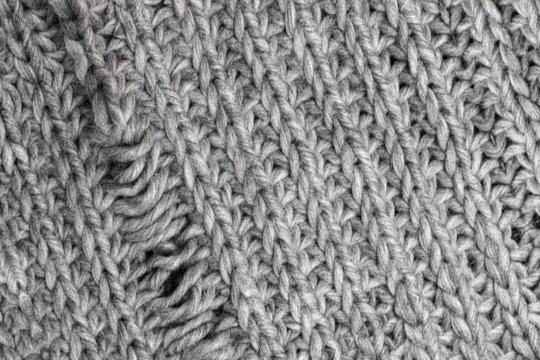slub: (77, 134, 273, 360)
